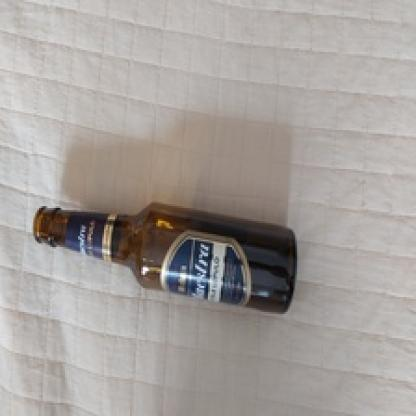Can: (0, 186, 324, 324)
